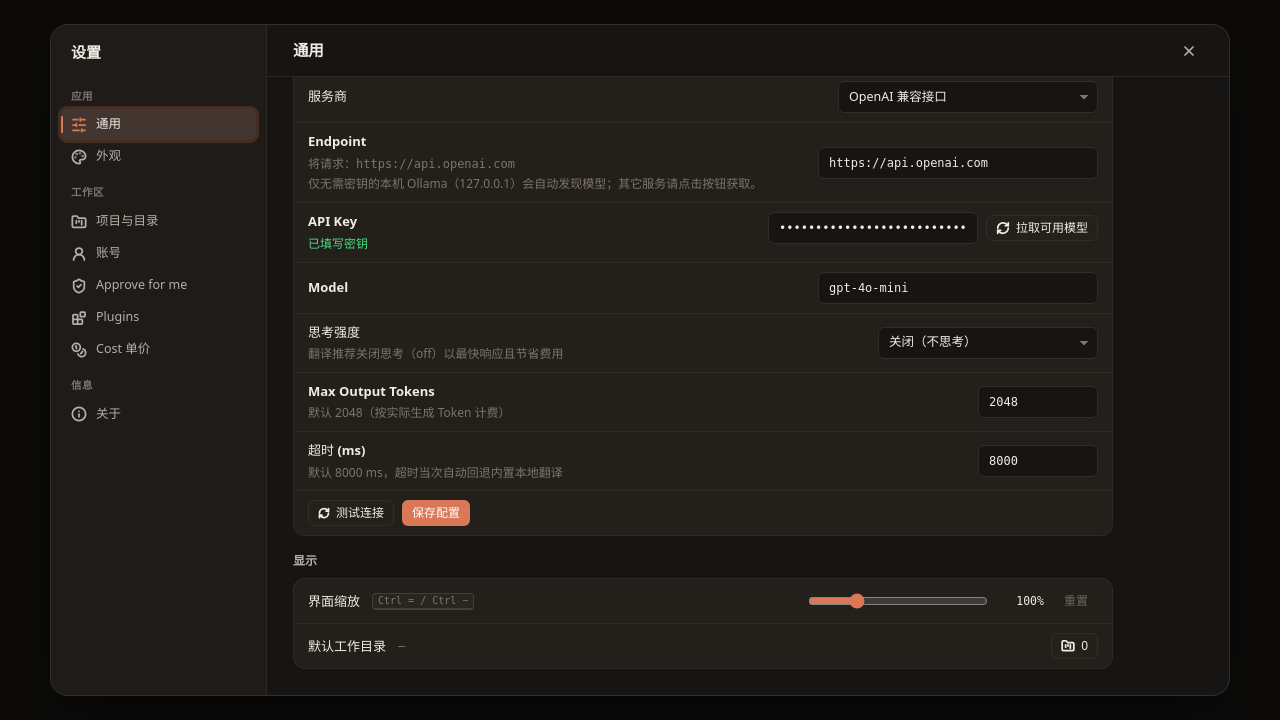
it: v0.3.2 前端与自研插件 UI Bug 全量回归 (FE-01 ~ FE-15, Turbo, 静默停止) › FE-01 (SettingsView)：外部翻译连接测试通过后顶部状态徽章立即显示已连接（无需先勾选启用）
(page scrolled)
Click the button with test id "test-translator-connection-btn" at (351, 514), box [308,500,394,526]
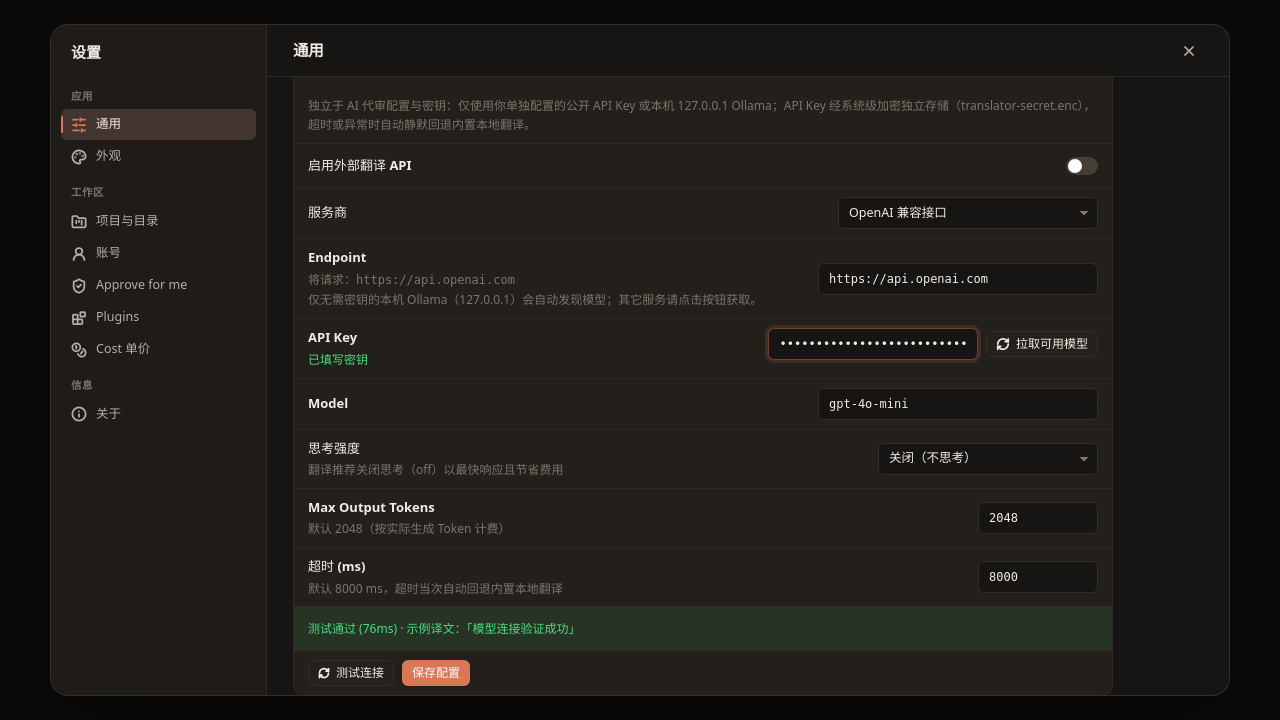
Now the element with test id "translator-test-result" shows "测试通过", box [308,620,580,637]
